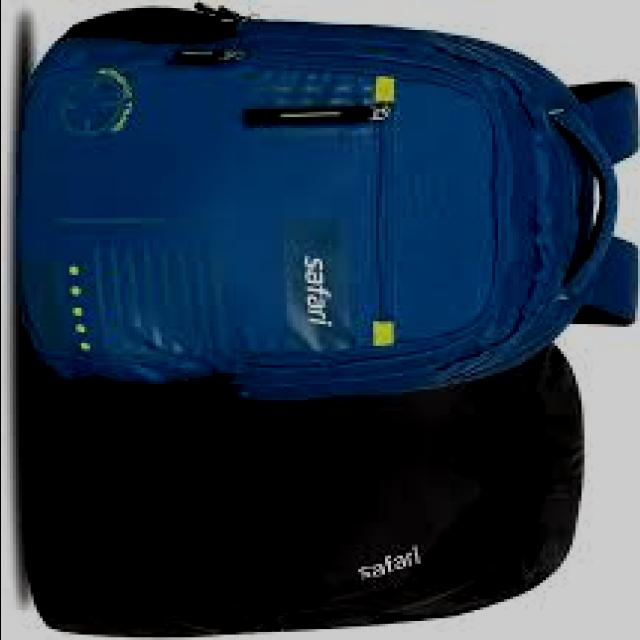backpack: (13, 16, 637, 422)
